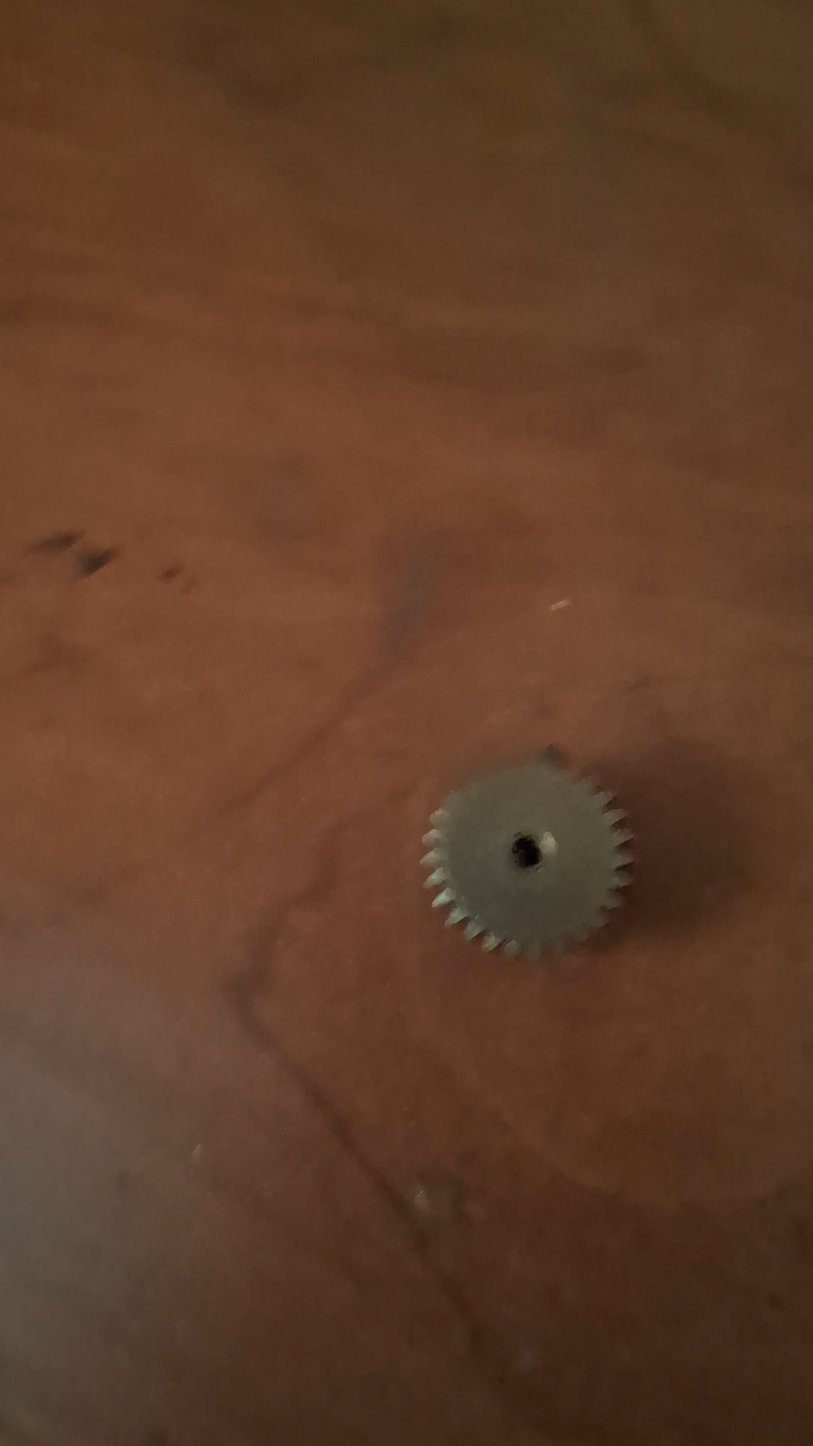spur gear: (423, 754, 631, 956)
